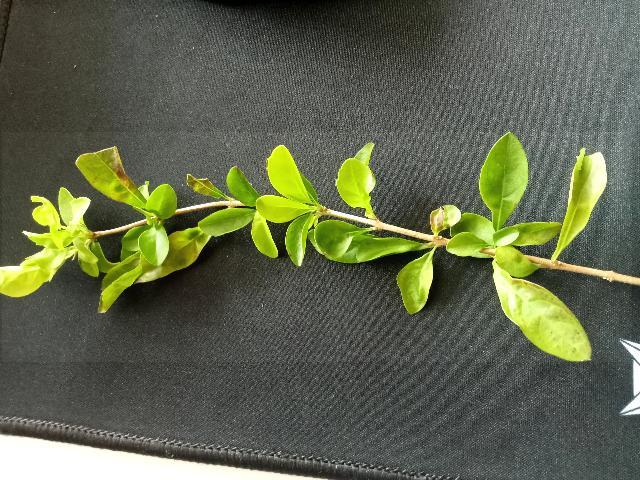pylokantus: (2, 132, 632, 362)
